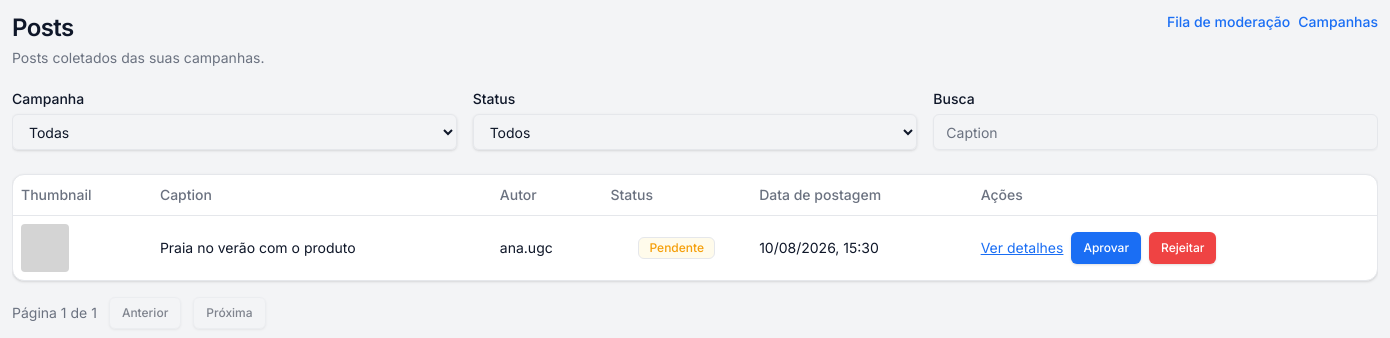
Test case: PostsList › approves a pending post and refetches the list
What coordinates should you click on to do the following:
click the button "Aprovar"
I would click on:
 (1106, 248)
Its box is [1071,232,1141,264].
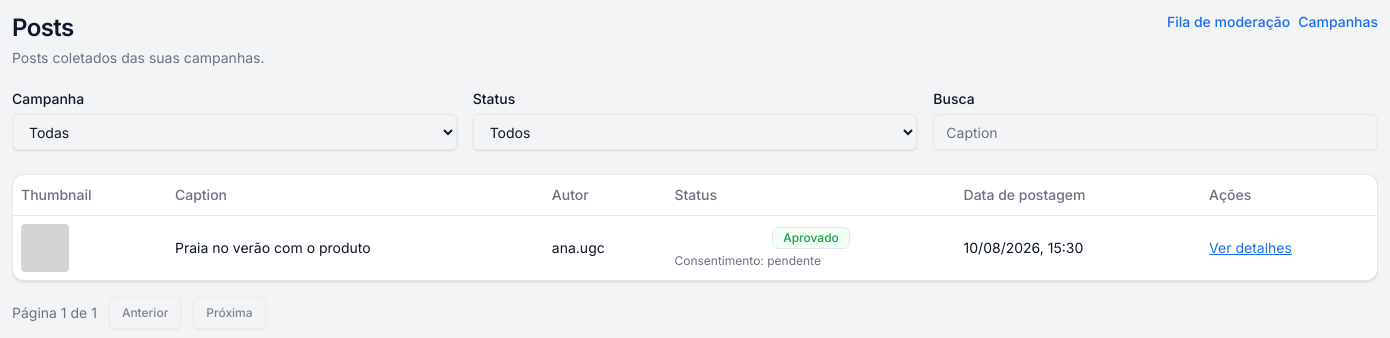
expect the text "Aprovado" is shown: met, box [772,226,850,248]
expect the text "Consentimento: pendente" is shown: met, box [674,252,821,268]
expect the button "Aprovar" is gone: met
